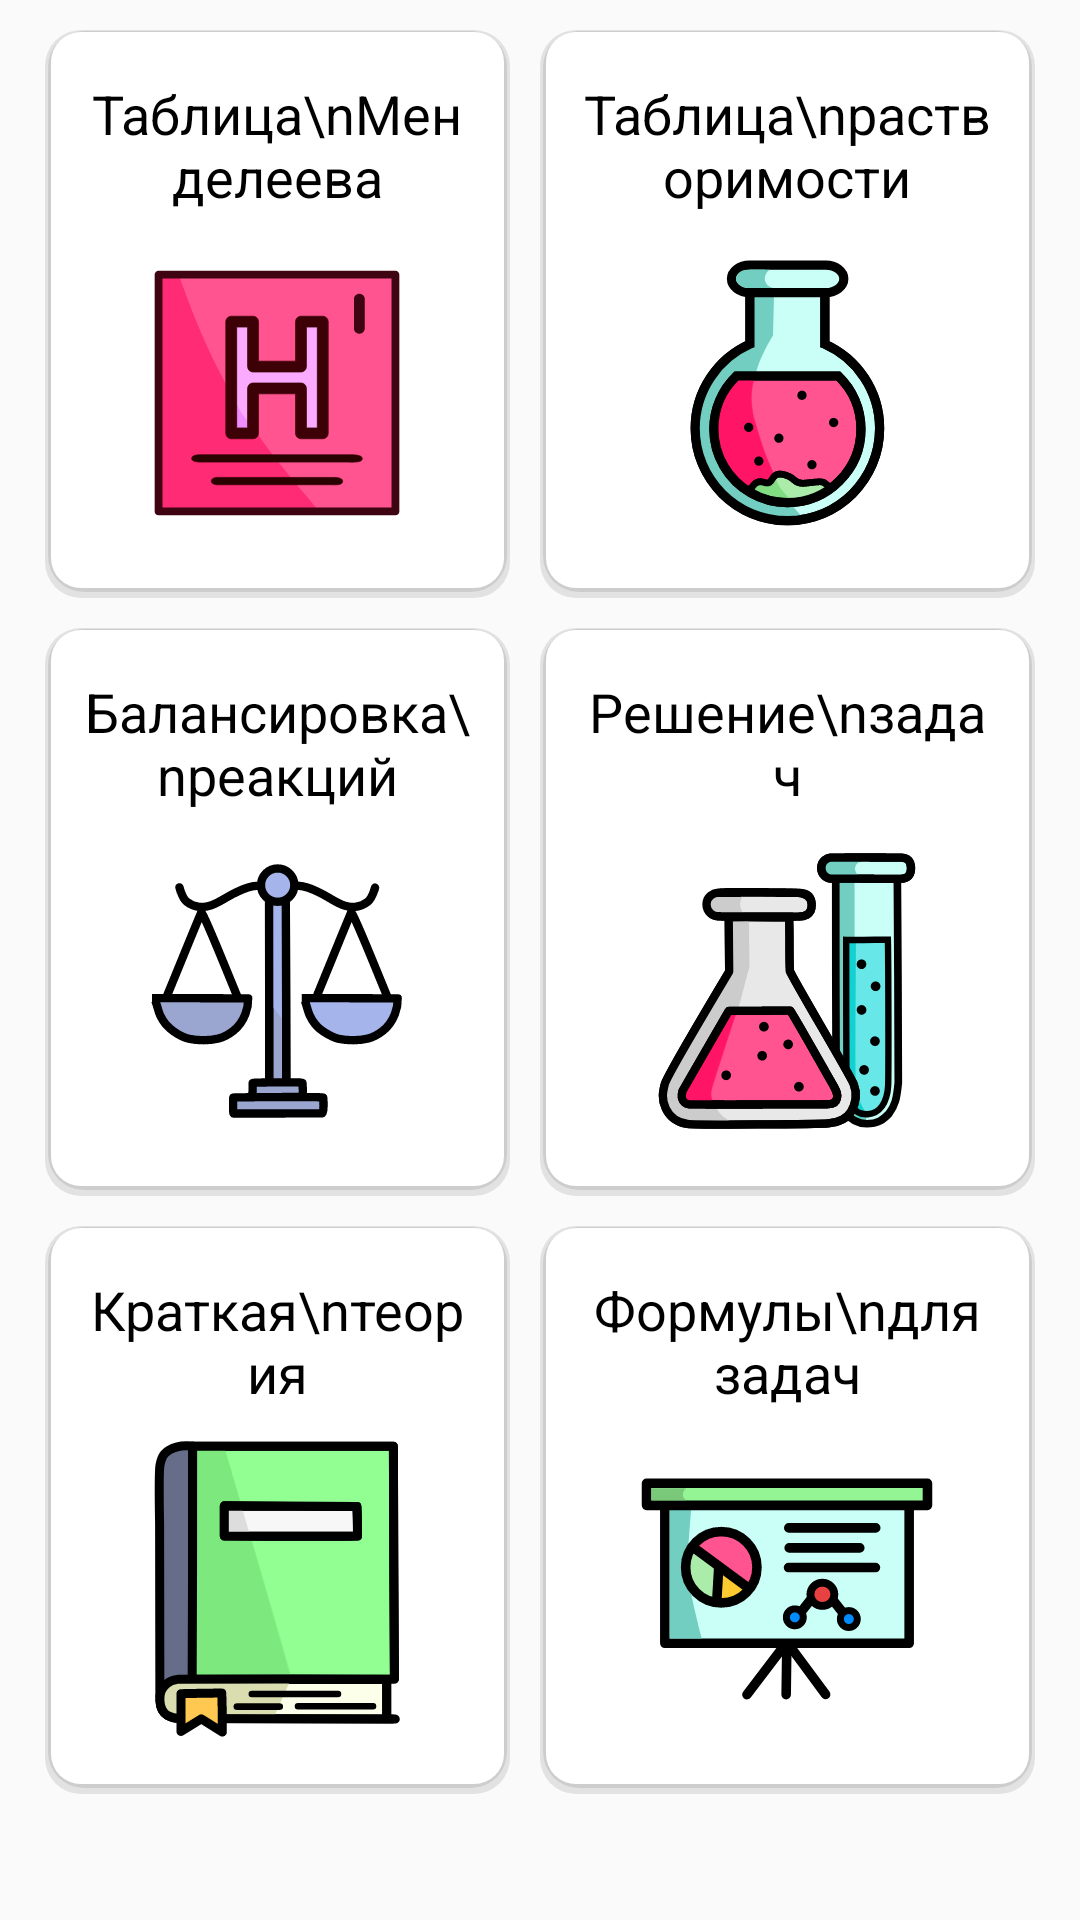

Where to tap for icons on this 1080 × 1920 app screen, as point (x, y):
balance: point (276, 991)
book: point (277, 1589)
